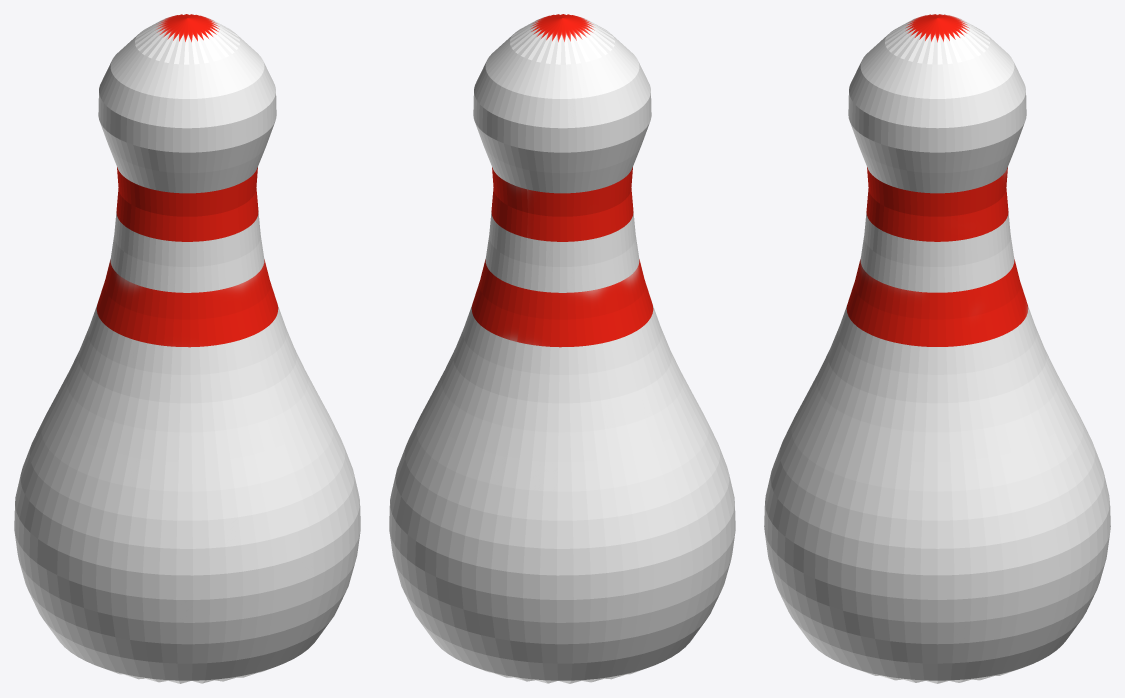
Rendered from BowlingPin.obj.
3 renders of one model, left to right at view 1: azimuth 30°, elevation 25°; view 2: azimuth 150°, elevation 25°; view 3: azimuth 270°, elevation 25°, orthographic.
Parts seen in each view (by area): view 1: Cylinder; view 2: Cylinder; view 3: Cylinder.
Boxes of the visible parts, bbox=[...] form: Cylinder: bbox=[14, 14, 360, 683]; Cylinder: bbox=[389, 14, 735, 683]; Cylinder: bbox=[764, 14, 1110, 683].
Size of the model in its own units: 2.99 by 6 by 2.99.
